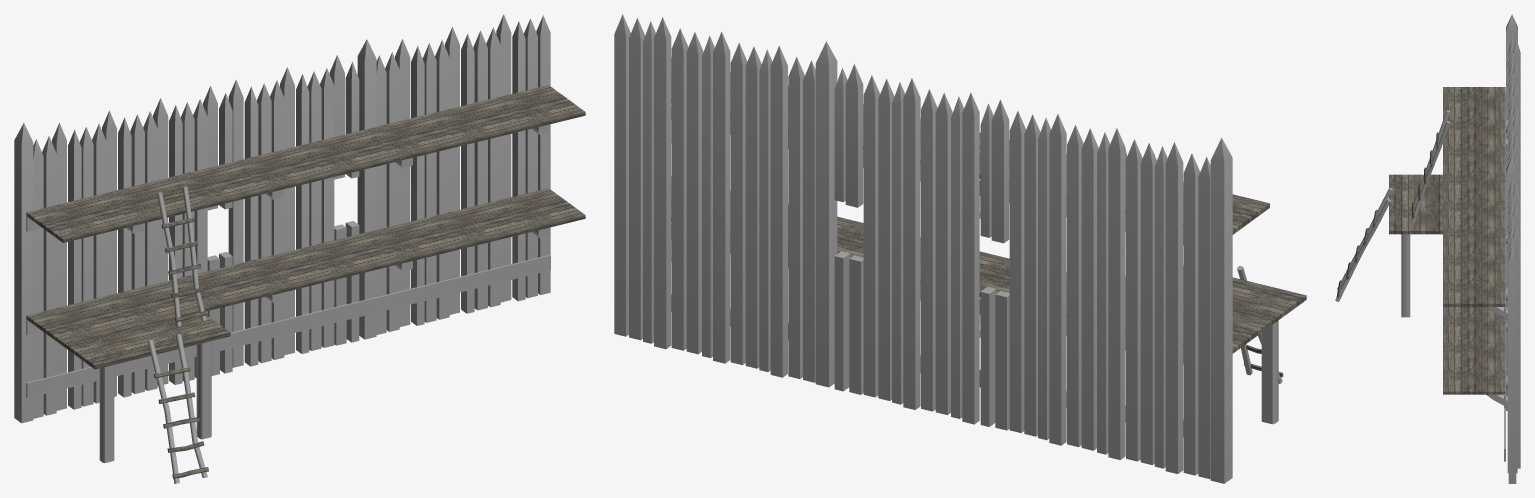
File: wall_wood_1_lod.fbx
The picture shows the model from 3 angles, left to right: view 1: azimuth 30°, elevation 25°; view 2: azimuth 150°, elevation 25°; view 3: azimuth 270°, elevation 25°; orthographic projection. The views are drawn at different scales.
Visible parts, largest first — view 1: Mesh; view 2: Mesh; view 3: Mesh.
Part boxes in pixels (<box>): Mesh: <box>14,14,585,483</box>; Mesh: <box>614,14,1306,483</box>; Mesh: <box>1335,14,1520,483</box>.
Bounding box in the file's own units: 2073 × 1119 × 736.
